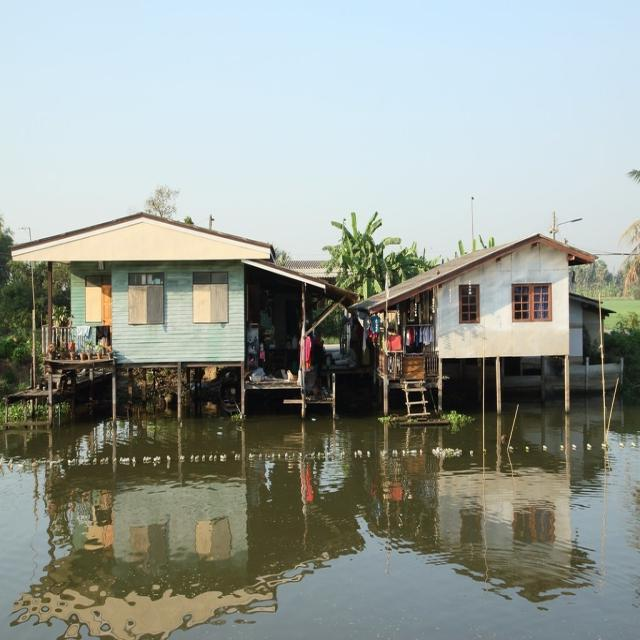Hyacinth: (0, 400, 45, 424), (440, 414, 480, 426)
